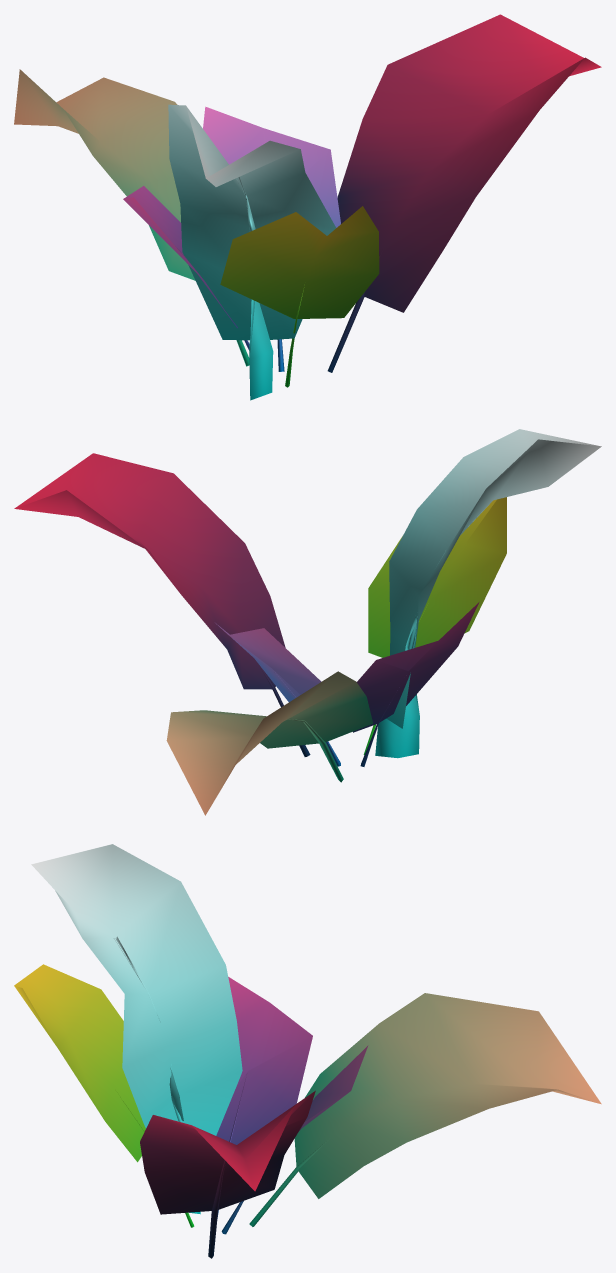
File: Lady_Fern_wdvlditia_Mid_wdvlditia_VarI_LOD1.fbx
The picture shows the model from 3 angles, top to bottom: view 1: azimuth 30°, elevation 25°; view 2: azimuth 150°, elevation 25°; view 3: azimuth 270°, elevation 25°; orthographic projection. The views are drawn at different scales.
Visible parts, largest first — view 1: _52mm_VarI_LOD4; view 2: _52mm_VarI_LOD4; view 3: _52mm_VarI_LOD4.
Boxes of the visible parts, x1,y1,x2,y2 form: _52mm_VarI_LOD4: (14, 14, 601, 400); _52mm_VarI_LOD4: (14, 429, 601, 815); _52mm_VarI_LOD4: (14, 844, 601, 1258).
Bounding box in the file's own units: 98.53 × 64.6 × 106.
